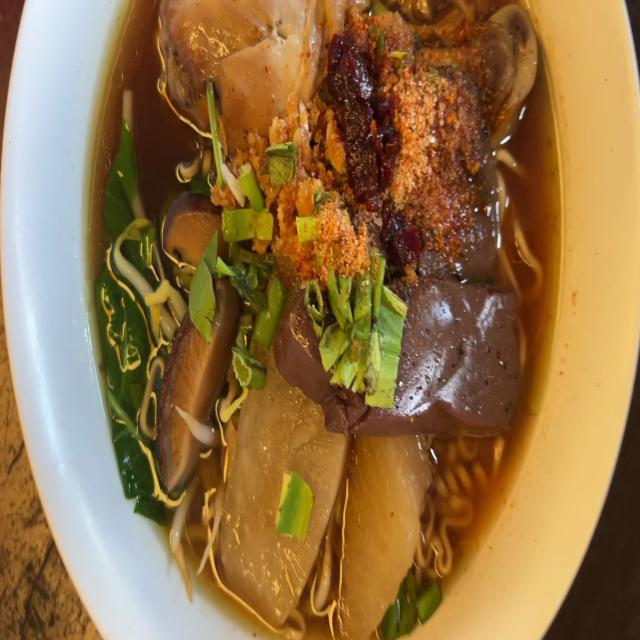boiled_chicken_blood_jelly: (385, 286, 526, 436)
chicken_drumstick: (163, 0, 532, 167)
daikon_radish: (231, 389, 420, 614)
noodle: (81, 0, 572, 640)
